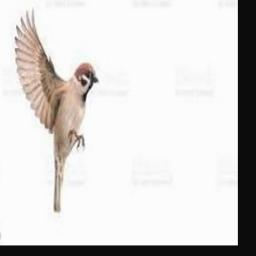Sparrow: (14, 7, 99, 213)
